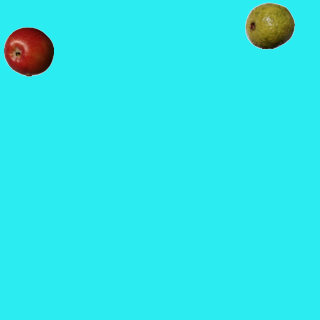Apple Braeburn: (3, 26, 53, 76)
Guava: (244, 0, 294, 50)
